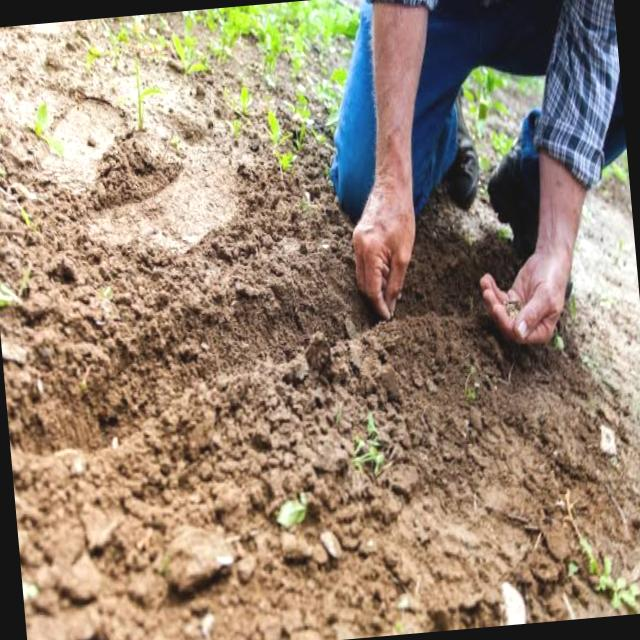suelo_humedo: (63, 150, 566, 589)
